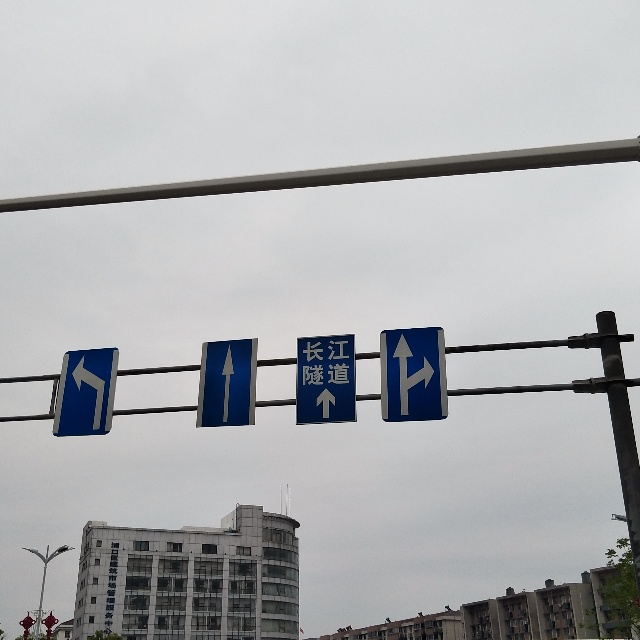left: (60, 347, 106, 435)
straight: (214, 349, 245, 428)
